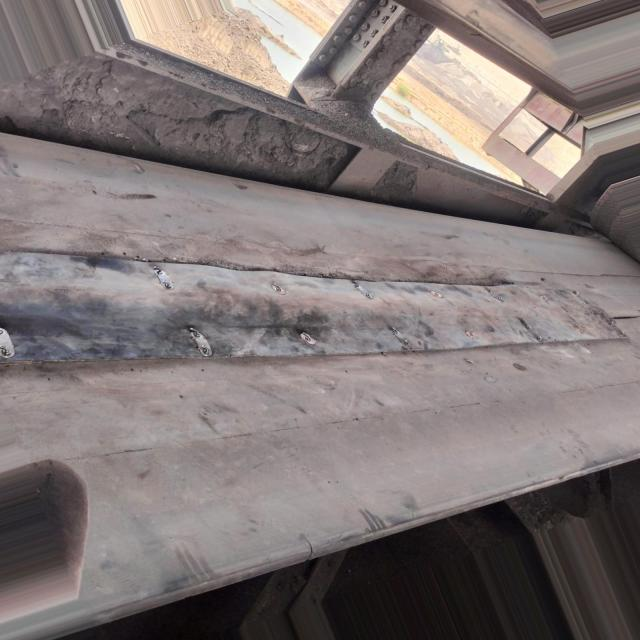patch work: (0, 246, 640, 389)
